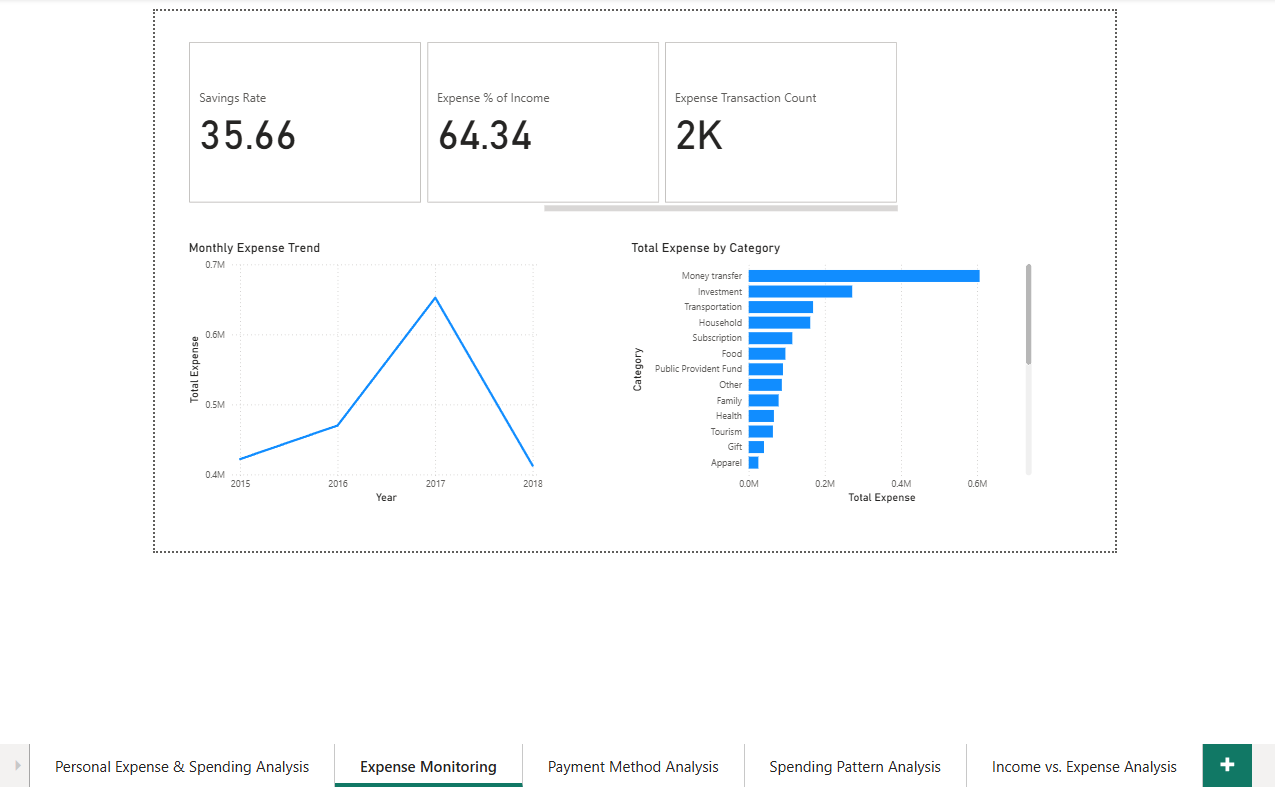

The page's visual inventory and layout, read from the dashboard file:
{"tool":"powerbi","page":{"name":"Expense Monitoring","canvas":[1280,720],"ordinal":1},"visuals":[{"type":"cardVisual","fields":{"Data":["Daily Household Transactions.Total Expense","Daily Household Transactions.Total Income","Daily Household Transactions.Net Balance","Daily Household Transactions.Savings Rate","Daily Household Transactions.Expense % of Income","Daily Household Transactions.Expense Transaction Count"]},"box":[40.4,36.7,955,237.2],"z":0},{"type":"lineChart","title":"Monthly Expense Trend","fields":{"Category":["Daily Household Transactions.Month-Year.Variation.Date Hierarchy.Year","Daily Household Transactions.Month-Year.Variation.Date Hierarchy.Quarter","Daily Household Transactions.Month-Year.Variation.Date Hierarchy.Month","Daily Household Transactions.Month-Year.Variation.Date Hierarchy.Day"],"Y":["Daily Household Transactions.Total Expense"]},"box":[40.4,304.5,481.8,357.1],"z":1000},{"type":"barChart","fields":{"Category":["Daily Household Transactions.Category"],"Y":["Daily Household Transactions.Total Expense"]},"box":[629.8,304.5,544.2,357.1],"z":2000}]}

Visuals, with their boxes on the page's 1280x720 design canvas (x1, y1, x2, y2). These are canvas units, not pixel positions in the 1275x787 screenshot, which may show the page scaled, cropped or inside an application window:
cardVisual - Daily Household Transactions.Total Expense x Daily Household Transactions.Total Income: left=40, top=37, right=995, bottom=274
"Monthly Expense Trend" lineChart: left=40, top=304, right=522, bottom=662
barChart - Daily Household Transactions.Category x Daily Household Transactions.Total Expense: left=630, top=304, right=1174, bottom=662
